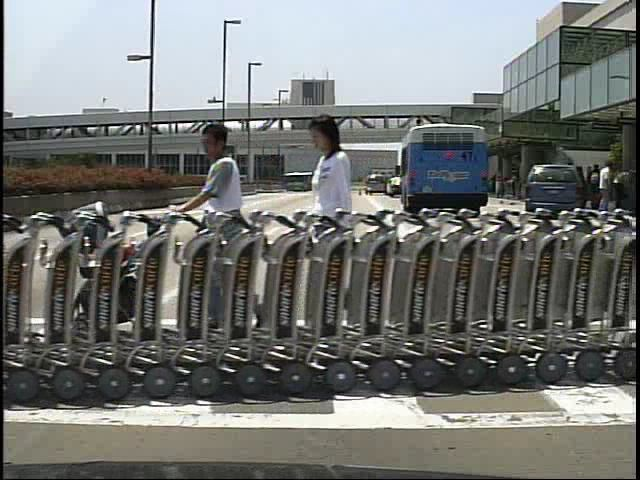person: (176, 121, 260, 345), (302, 116, 374, 349), (596, 161, 616, 210), (589, 163, 604, 212)
